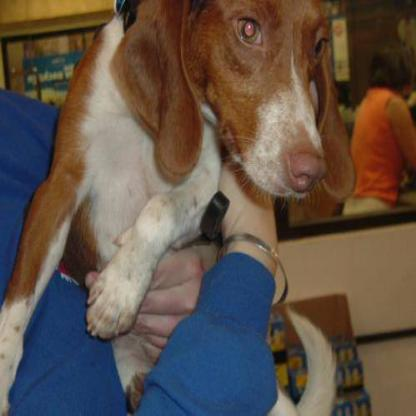dog: (46, 8, 390, 297)
